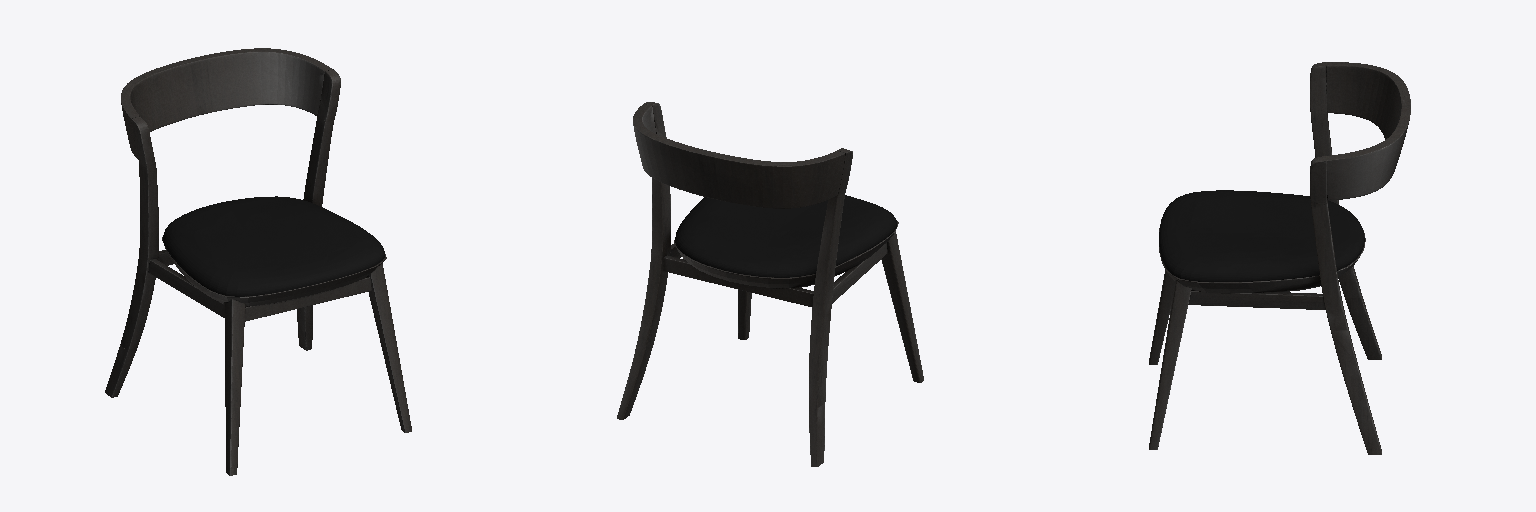
The picture shows the model from 3 angles: view 1: azimuth 30°, elevation 25°; view 2: azimuth 150°, elevation 25°; view 3: azimuth 270°, elevation 25°; orthographic projection.
Visible parts, largest first — view 1: solid_001, solid_002; view 2: solid_001, solid_002; view 3: solid_001, solid_002.
Part boxes in pixels (x1,y1,x2,y2): solid_001: (105, 48, 411, 475); solid_002: (163, 196, 384, 296); solid_001: (617, 102, 923, 466); solid_002: (675, 195, 896, 277); solid_001: (1149, 62, 1410, 454); solid_002: (1159, 190, 1364, 281).
Size of the model in its own units: 0.4657 by 0.6586 by 0.5218.
1 materials, 1 textured.